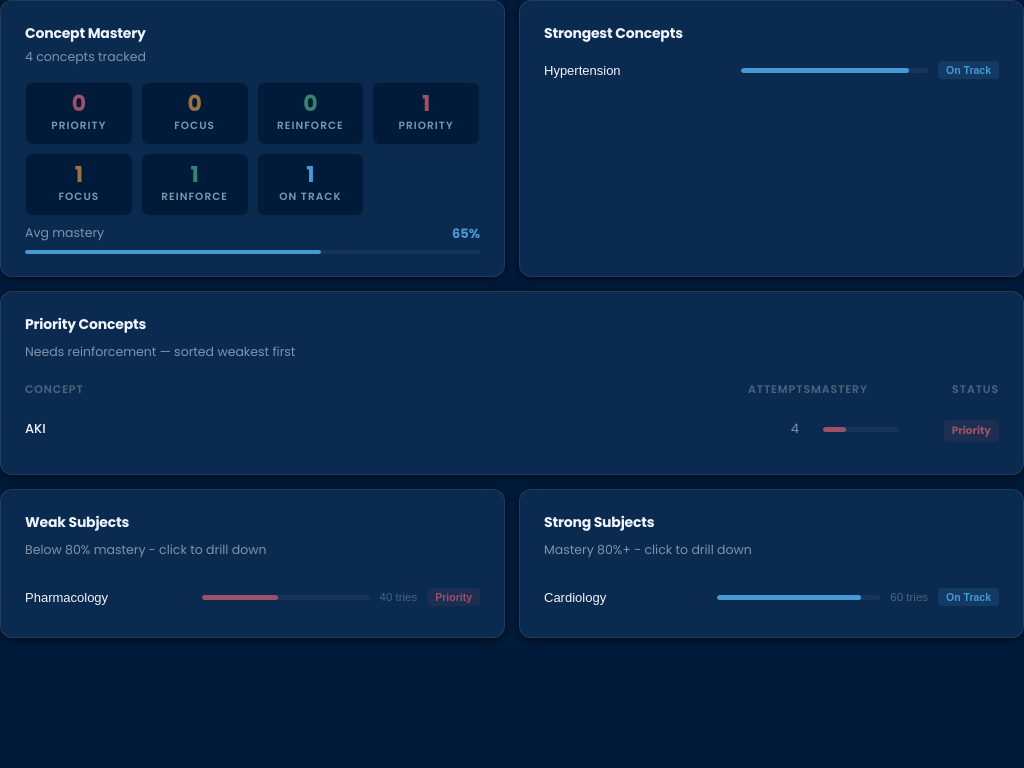
Test: MasteryPanel — SubjectDrilldownModal › opens drilldown modal when a subject row is clicked
Click the button with aria-label "View Pharmacology subject details".
click(252, 597)  # box [25, 579, 480, 615]
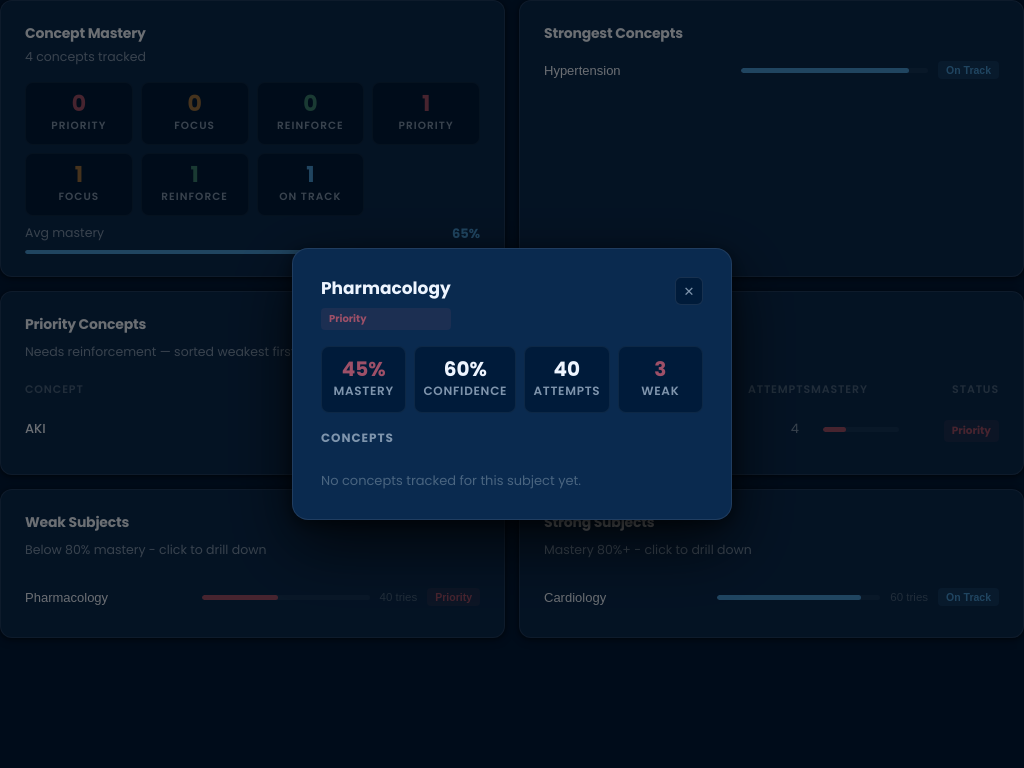
Result: the dialog named "Pharmacology subject mastery" is shown
